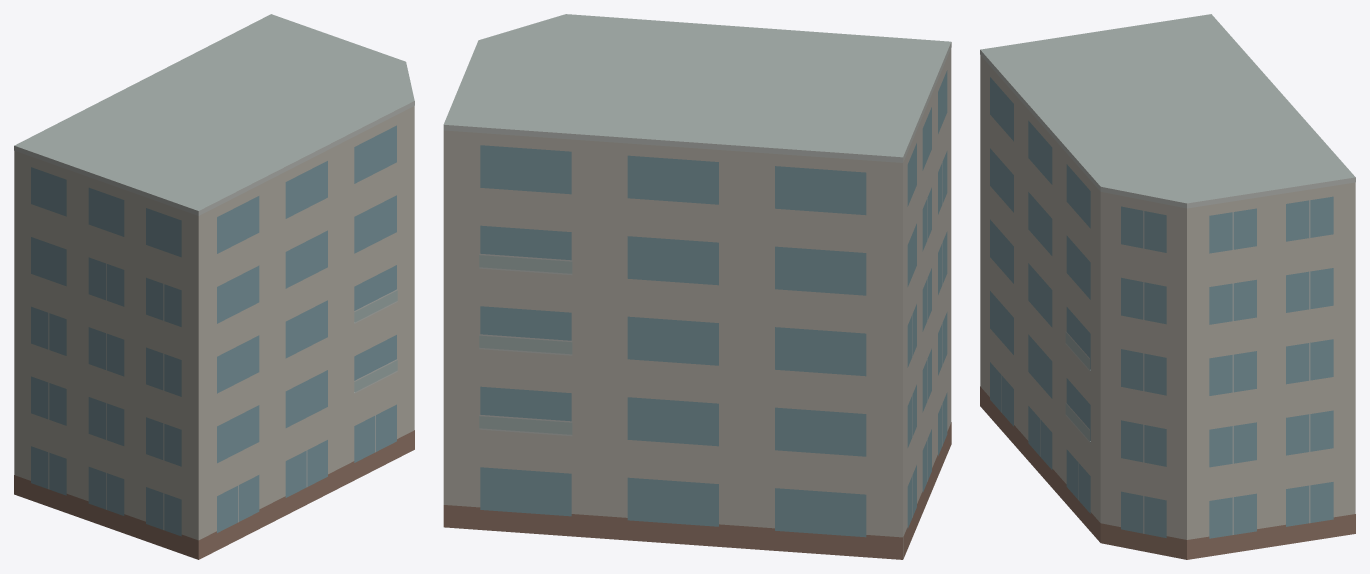
The model's file is survey-upis-32854461.glb.
3 renders of one model, left to right at view 1: azimuth 30°, elevation 25°; view 2: azimuth 150°, elevation 25°; view 3: azimuth 270°, elevation 25°, orthographic. The views are drawn at different scales.
Visible parts, largest first — view 1: survey-upis-32854461.tmp; view 2: survey-upis-32854461.tmp; view 3: survey-upis-32854461.tmp.
Boxes of the visible parts, box(x1,y1,x2,y2) form: survey-upis-32854461.tmp: box(14, 14, 414, 559); survey-upis-32854461.tmp: box(443, 14, 951, 559); survey-upis-32854461.tmp: box(980, 14, 1355, 559).
Bounding box in the file's own units: 19.64 × 17.22 × 16.46.
